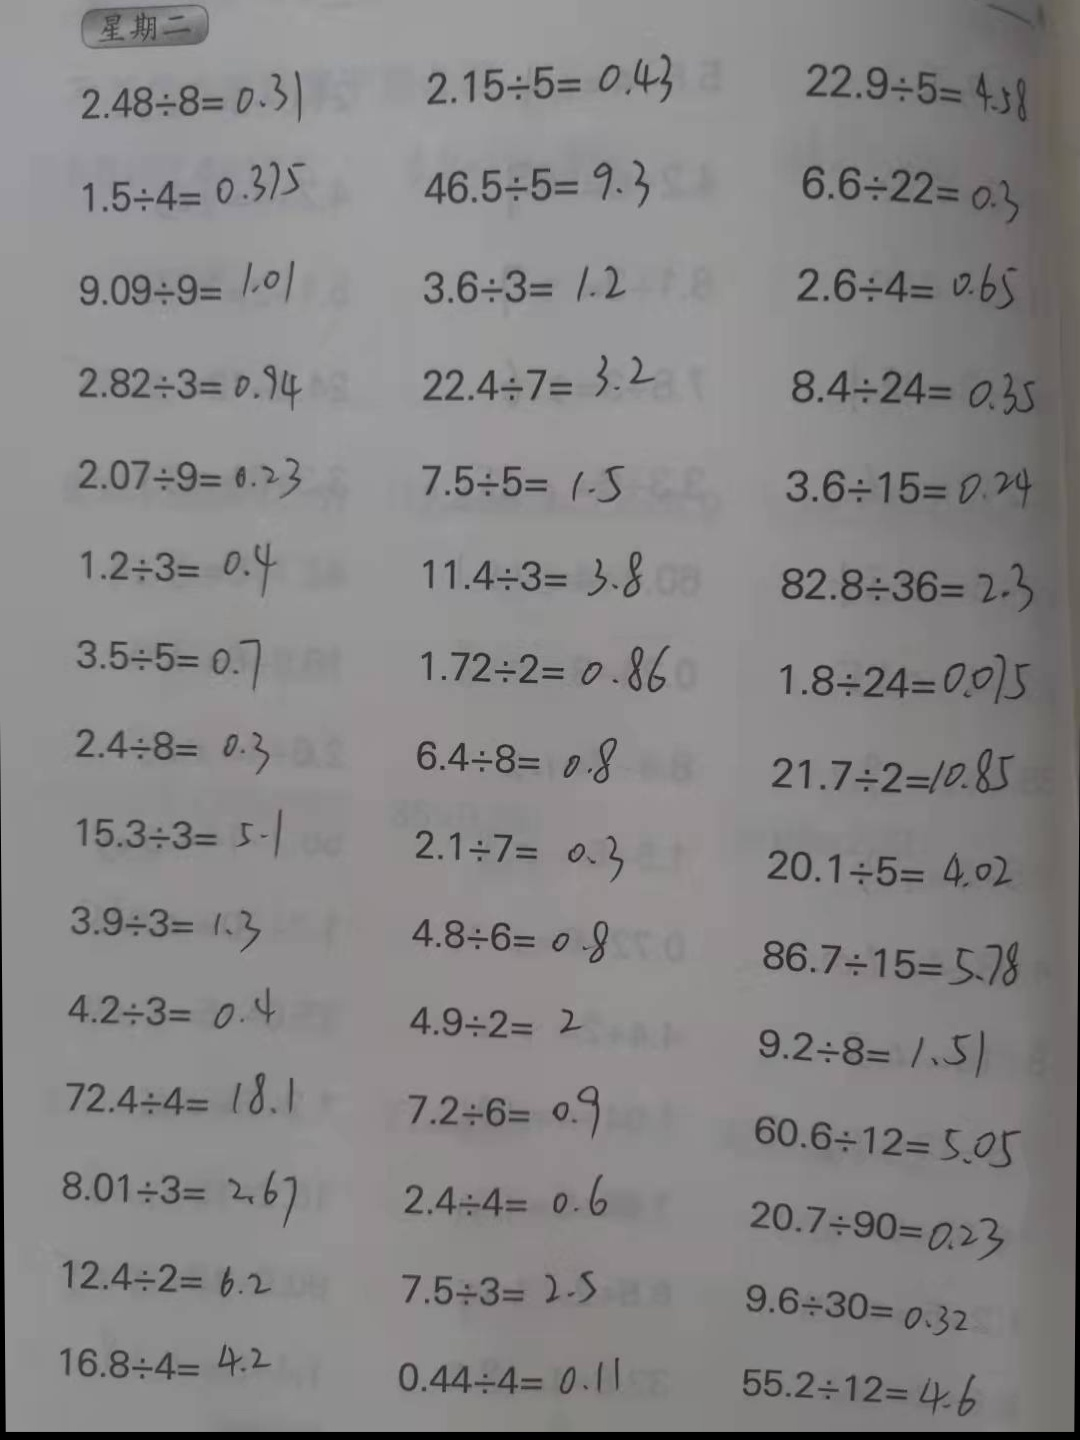equation: (746, 924, 1024, 1006), (735, 1184, 1012, 1264), (44, 1157, 307, 1238), (742, 1101, 1023, 1177), (779, 344, 1049, 420), (771, 550, 1044, 625), (793, 46, 1043, 127), (73, 239, 304, 325), (404, 627, 676, 700), (753, 739, 1030, 808), (71, 57, 313, 134), (71, 144, 317, 220), (398, 813, 632, 892), (422, 46, 684, 117), (54, 1062, 305, 1134), (729, 1278, 987, 1347), (59, 442, 331, 507), (782, 249, 1027, 320), (788, 154, 1022, 228), (765, 646, 1036, 709), (415, 154, 663, 222), (65, 351, 311, 420), (773, 448, 1040, 509), (54, 881, 269, 957), (390, 1074, 610, 1147), (68, 794, 287, 867), (748, 1015, 1004, 1077), (77, 527, 282, 604), (56, 713, 279, 783), (389, 723, 623, 789), (752, 836, 1012, 895), (51, 979, 287, 1043), (389, 1344, 640, 1404), (403, 249, 635, 314), (415, 542, 651, 605), (65, 621, 268, 694), (412, 448, 646, 509), (58, 1247, 282, 1311), (383, 1264, 610, 1325), (399, 906, 613, 969), (390, 1169, 617, 1227), (416, 351, 663, 403), (51, 1333, 282, 1387), (402, 992, 588, 1049)
